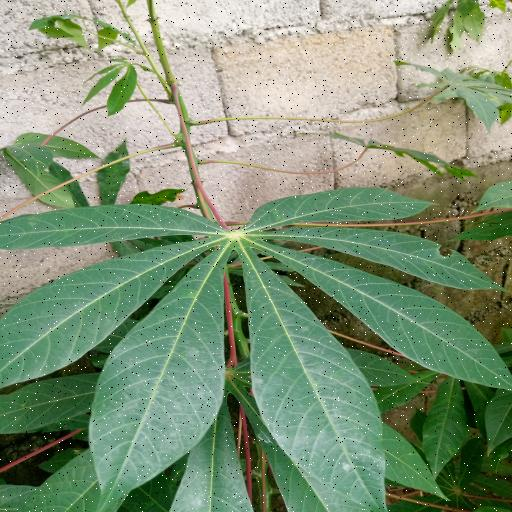Cassava_Healthy: (0, 188, 508, 512)
